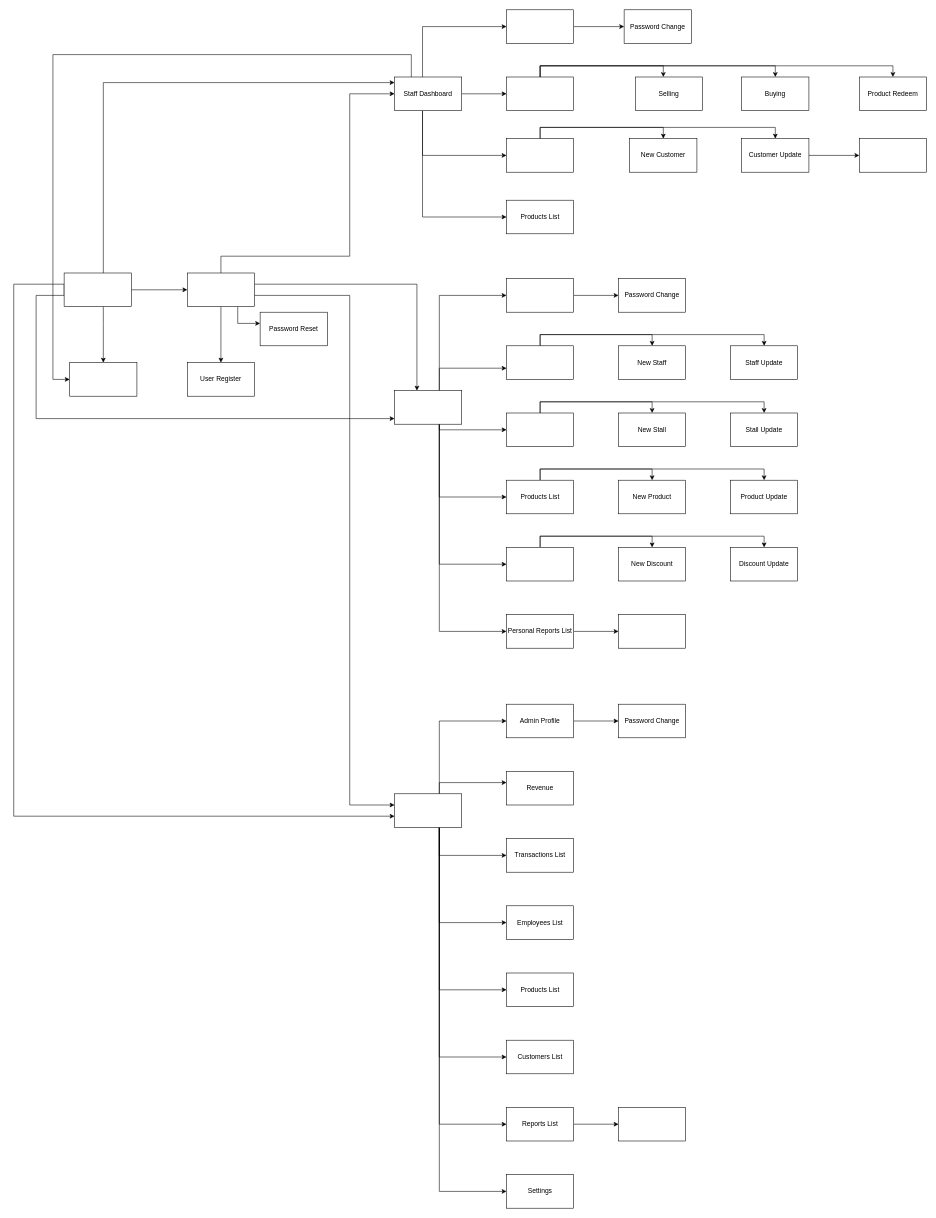
The diagram is 936 pixels wide and 1218 high, and some of its shapes have lost their labels. The centre of each missing label's shape, as x and y in pixels:
Admin Dashboard: point (428, 810)
Customer Search: point (540, 155)
Discounts List: point (540, 564)
Gold Prices List: point (103, 379)
Home Page: point (97, 289)
Manager Dashboard: point (428, 407)
Manager Profile: point (540, 295)
New Order: point (540, 93)
New Report: point (652, 631)
Point Update: point (893, 155)
Report Detail: point (652, 1124)
Staff Profile: point (540, 26)
Staffs List: point (540, 362)
Stalls List: point (540, 429)
User Login: point (221, 289)
